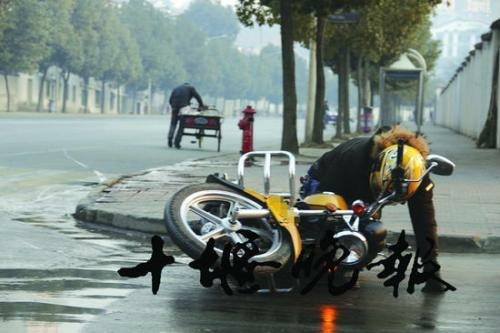falling: (286, 120, 464, 286)
